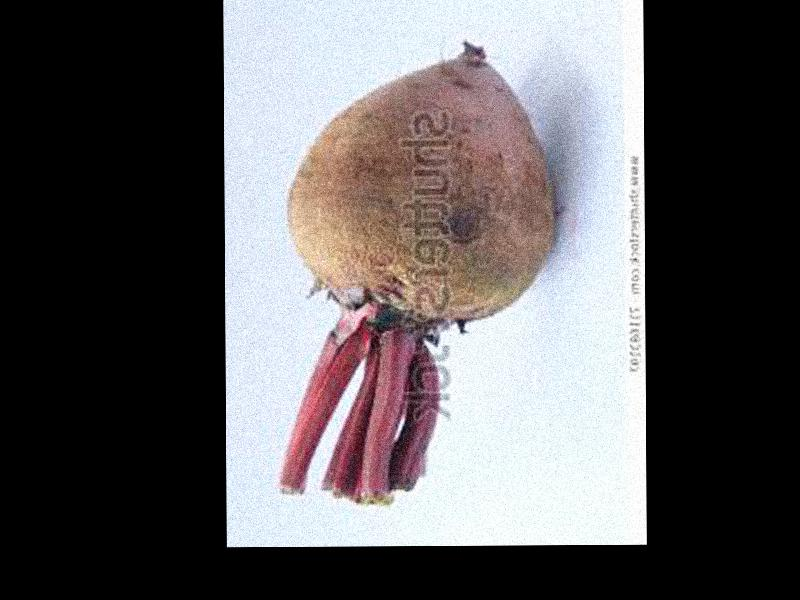Beet: (282, 48, 555, 497)
